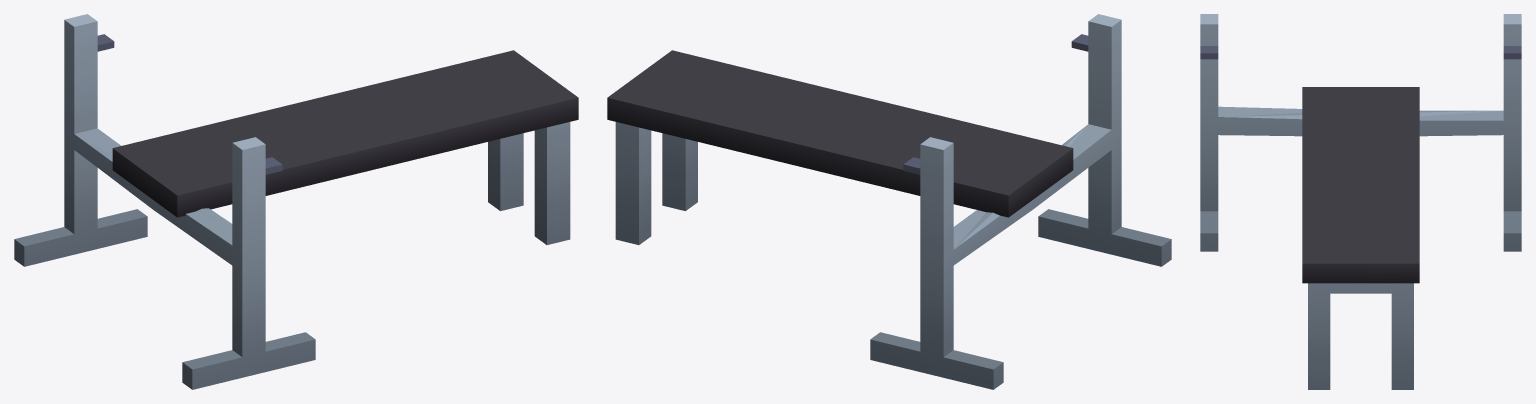
The model's file is chair_push.fbx.
3 renders of one model, left to right at view 1: azimuth 30°, elevation 25°; view 2: azimuth 150°, elevation 25°; view 3: azimuth 270°, elevation 25°, orthographic. The views are drawn at different scales.
Visible parts, largest first — view 1: duplicated_0186nani; view 2: duplicated_0186nani; view 3: duplicated_0186nani.
Boxes of the visible parts, bbox=[...] form: duplicated_0186nani: bbox=[14, 14, 578, 389]; duplicated_0186nani: bbox=[607, 14, 1171, 389]; duplicated_0186nani: bbox=[1200, 14, 1521, 389].
Bounding box in the file's own units: 2.07 × 1.02 × 1.44.
